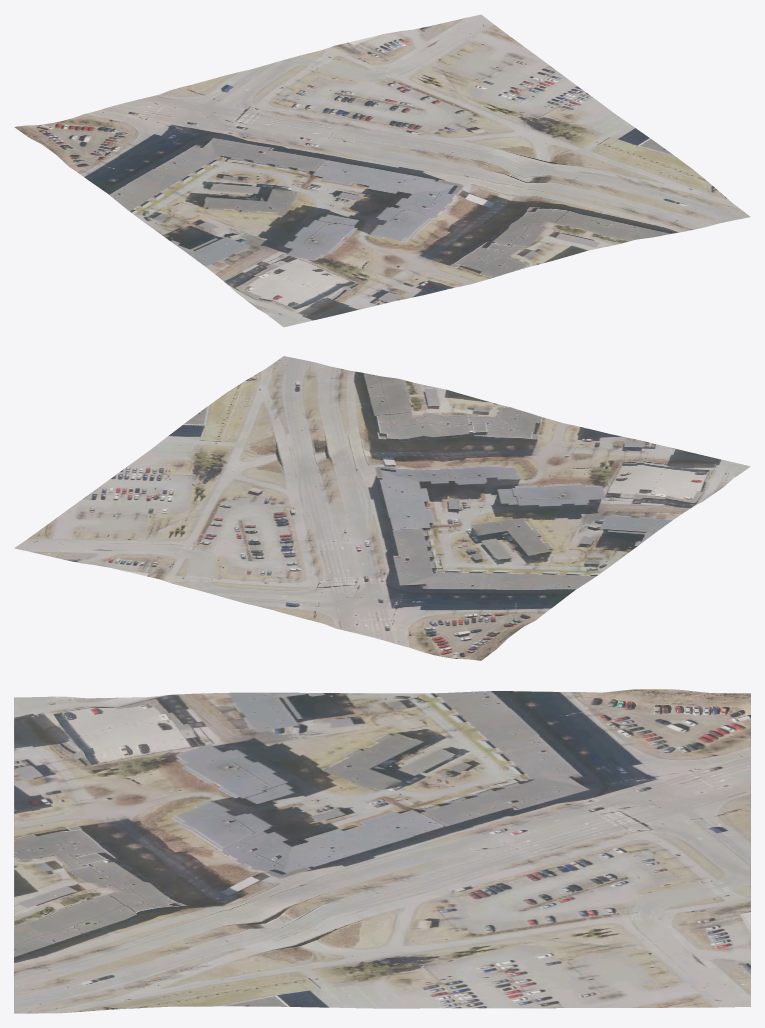
File: CM_Terrain_24491892_6815903.fbx
3 views of the same model, one above another, from view 1: azimuth 30°, elevation 25°; view 2: azimuth 150°, elevation 25°; view 3: azimuth 270°, elevation 25° (orthographic). The views are drawn at different scales.
Parts seen in each view (by area): view 1: CM_Terrain_24491892_6815903_LOD0; view 2: CM_Terrain_24491892_6815903_LOD0; view 3: CM_Terrain_24491892_6815903_LOD0.
Boxes of the visible parts, x1,y1,x2,y2 form: CM_Terrain_24491892_6815903_LOD0: (14,14,750,327); CM_Terrain_24491892_6815903_LOD0: (14,356,750,660); CM_Terrain_24491892_6815903_LOD0: (14,689,750,1013).
Size of what is drawn, in the model's own units: 205 by 4.45 by 205.
